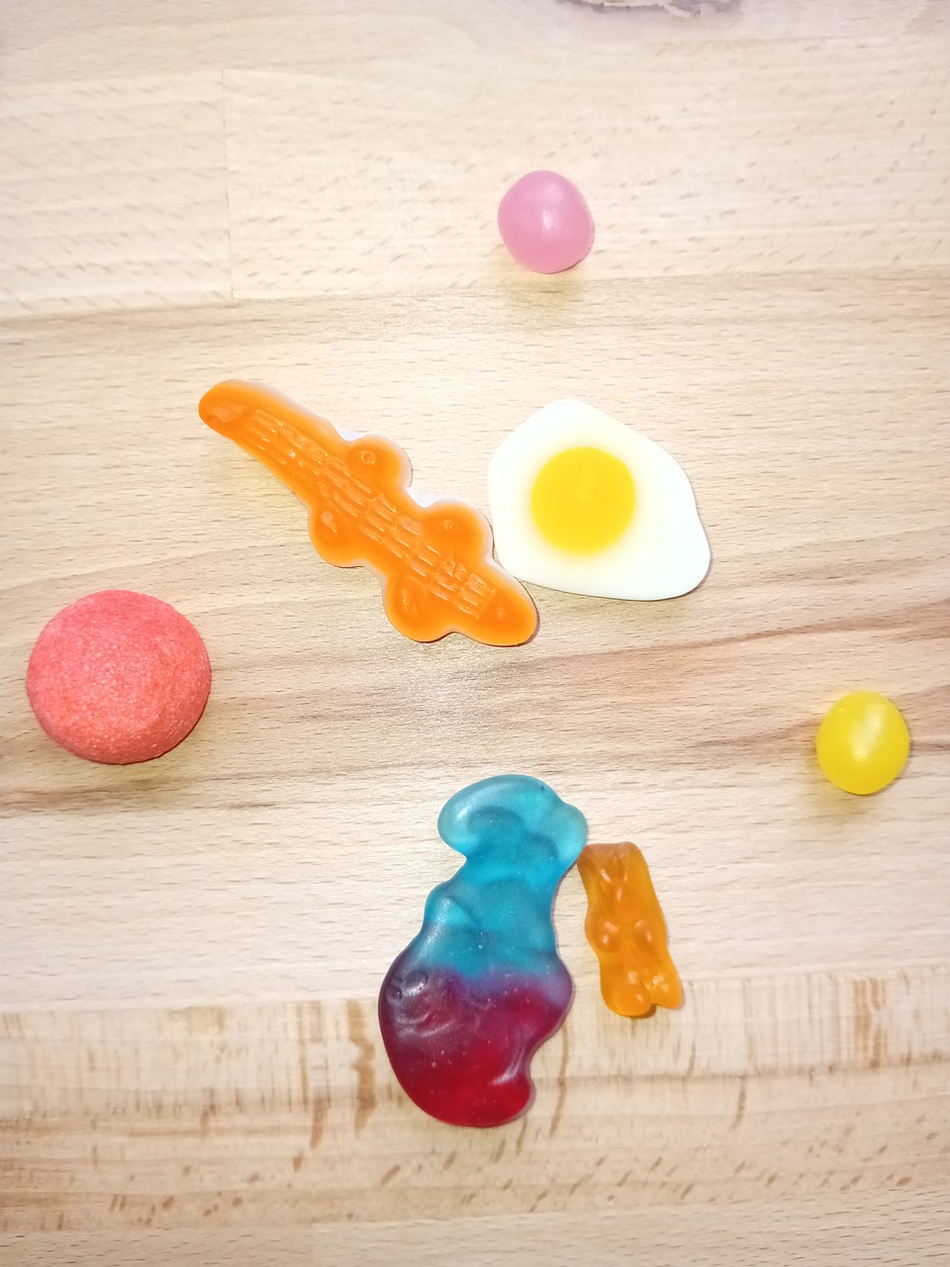crocodile_orange: (184, 373, 543, 650)
dragibus_jaune: (810, 691, 916, 801)
dragibus_rose: (489, 167, 599, 277)
oeuf_oeuf: (486, 387, 712, 607)
ourson_orangeClair: (578, 835, 687, 1026)
schtroumpf_bleu-rouge: (367, 770, 590, 1134)
tagada_fraise: (25, 589, 218, 770)
